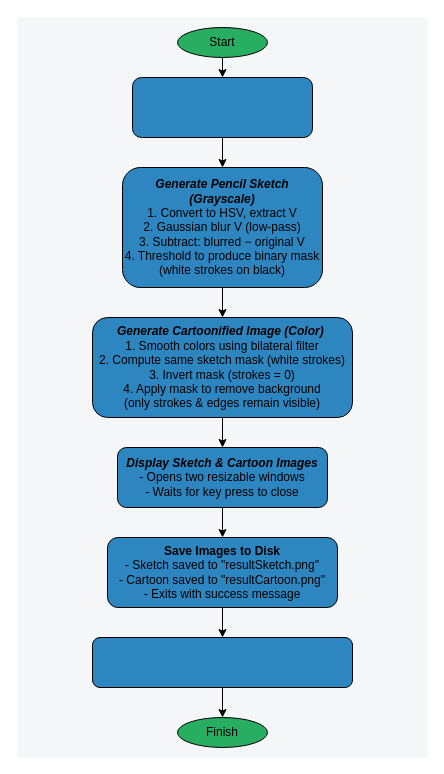
This 444x774 diagram has some shape labels left out. Here are the shapes that lost their labels. From the top down, the centre of each, then its label:
At pixel 222 107: "Load Input Image from Disk * Reads BGR image using path * Exits if loading fails".
At pixel 222 662: "Display & Output".
